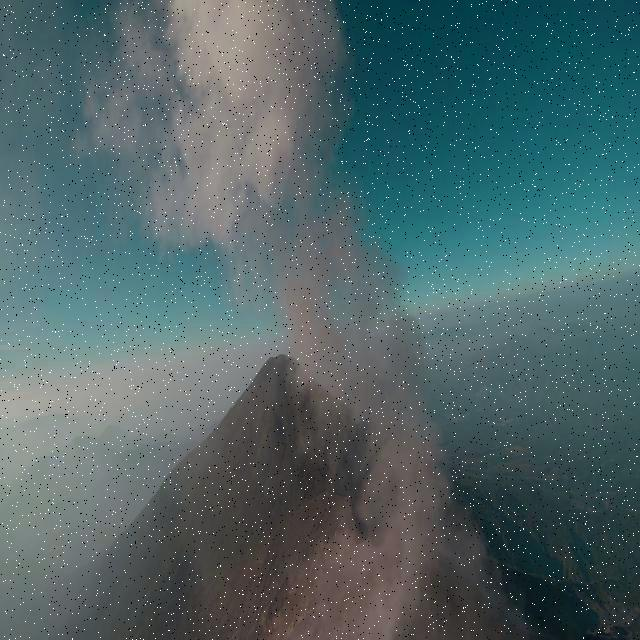Plume: (70, 0, 360, 290), (278, 194, 464, 640)
